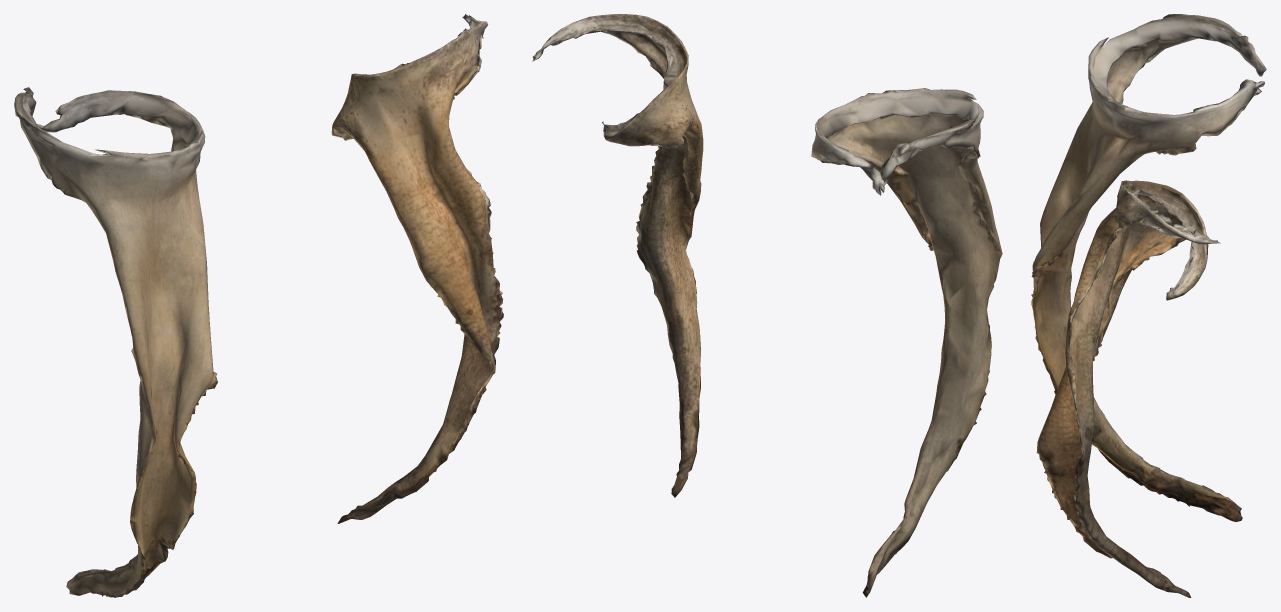
File: dry_quiver_leaf.glb
3 views of the same model, side by side, from view 1: azimuth 30°, elevation 25°; view 2: azimuth 150°, elevation 25°; view 3: azimuth 270°, elevation 25° (orthographic). The views are drawn at different scales.
Visible parts, largest first — view 1: dry_quiver_leaf_b; view 2: dry_quiver_leaf_b; view 3: dry_quiver_leaf_b.
Boxes of the visible parts, bbox=[...] form: dry_quiver_leaf_b: bbox=[14, 14, 503, 597]; dry_quiver_leaf_b: bbox=[532, 14, 1002, 597]; dry_quiver_leaf_b: bbox=[1031, 14, 1266, 597].
Size of the model in its own units: 0.3967 by 0.4239 by 0.1916.
1 material, 1 textured.
